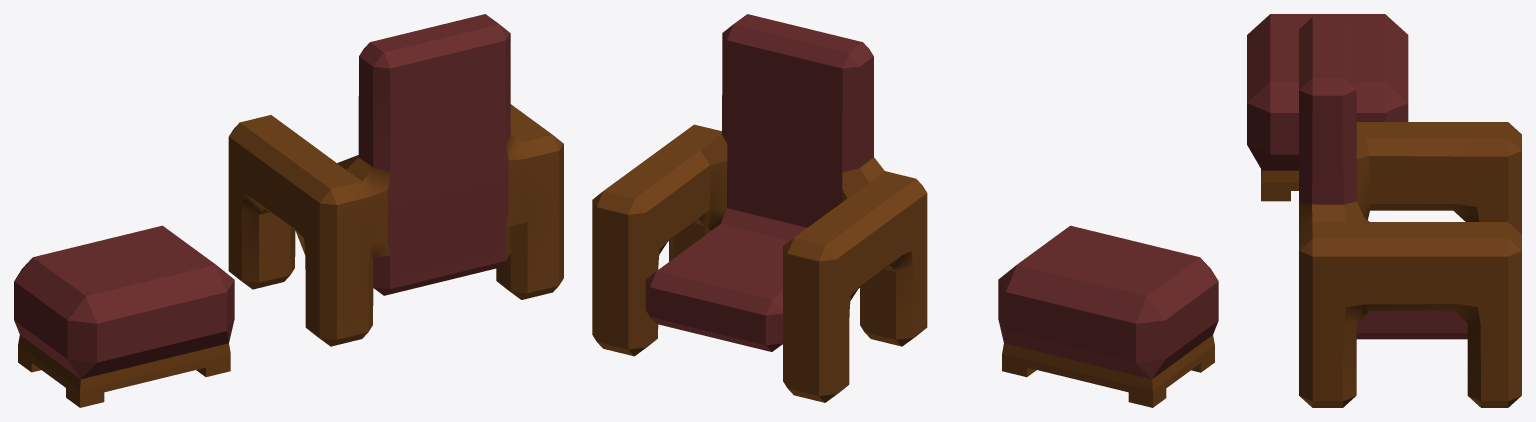
Rendered from Armchair and Ottoman.fbx.
The picture shows the model from 3 angles, left to right: view 1: azimuth 30°, elevation 25°; view 2: azimuth 150°, elevation 25°; view 3: azimuth 270°, elevation 25°; orthographic projection. The views are drawn at different scales.
Visible parts, largest first — view 1: Armchair, Ottoman; view 2: Armchair, Ottoman; view 3: Armchair, Ottoman.
Boxes of the visible parts, left/top/right/bottom form: Armchair: left=228, top=14, right=563, bottom=346; Ottoman: left=14, top=225, right=234, bottom=407; Armchair: left=592, top=14, right=927, bottom=402; Ottoman: left=998, top=225, right=1218, bottom=407; Armchair: left=1299, top=17, right=1521, bottom=407; Ottoman: left=1247, top=14, right=1408, bottom=201.
Bounding box in the file's own units: 6.92 × 3.6 × 2.97.
